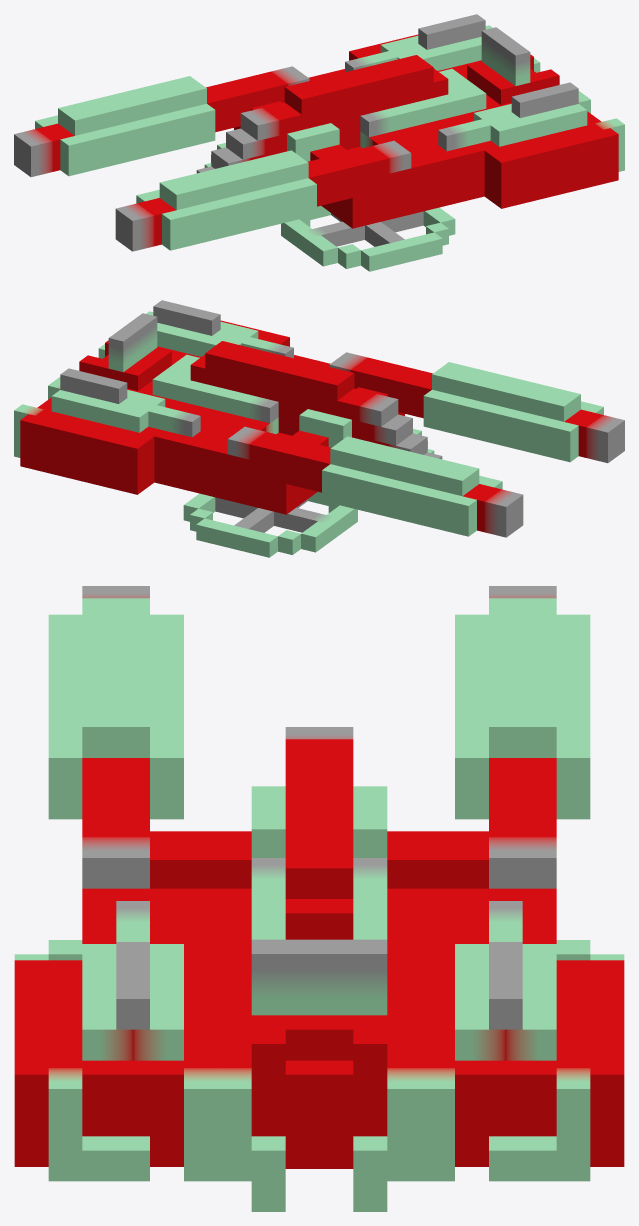
Rendered from Player_13.fbx.
3 renders of one model, top to bottom at view 1: azimuth 30°, elevation 25°; view 2: azimuth 150°, elevation 25°; view 3: azimuth 270°, elevation 25°, orthographic. The views are drawn at different scales.
Parts seen in each view (by area): view 1: Player_13; view 2: Player_13; view 3: Player_13.
Part boxes in pixels (x1,y1,x2,y2): Player_13: [14, 14, 624, 271]; Player_13: [14, 300, 624, 557]; Player_13: [14, 586, 624, 1211].
Size of the model in its own units: 33 by 8 by 18.
1 material, 1 textured.
